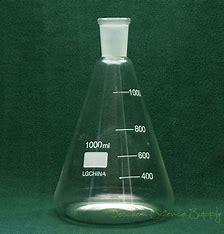Titrarion: (43, 19, 182, 228)
